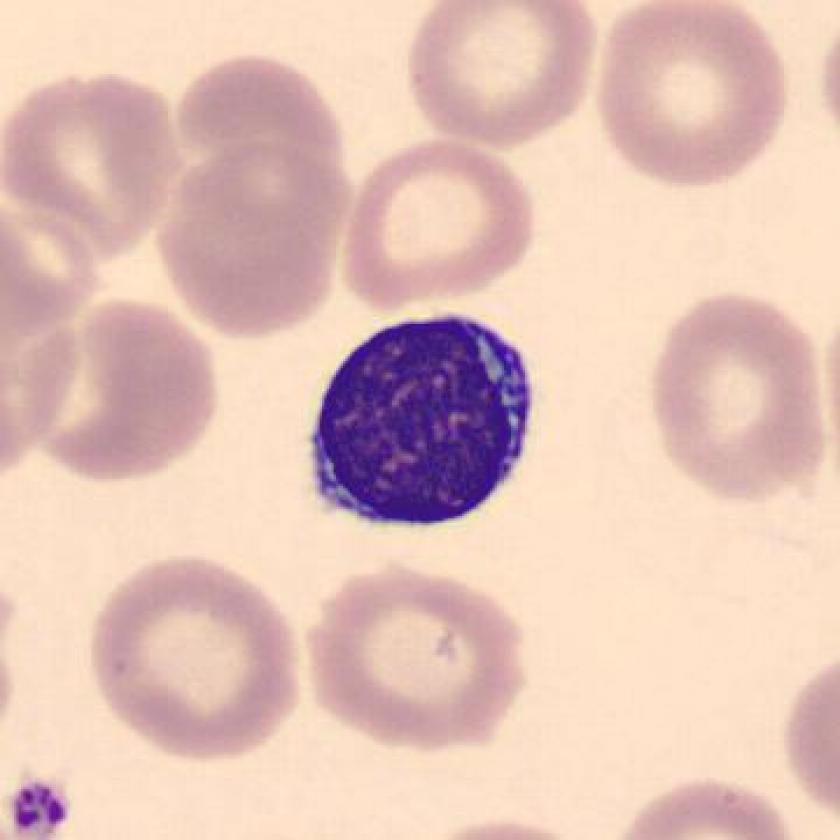lymphocyte: (293, 299, 547, 545)
